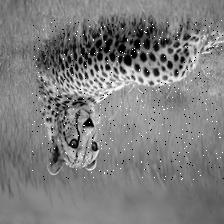Cheetha: (32, 19, 224, 179)
